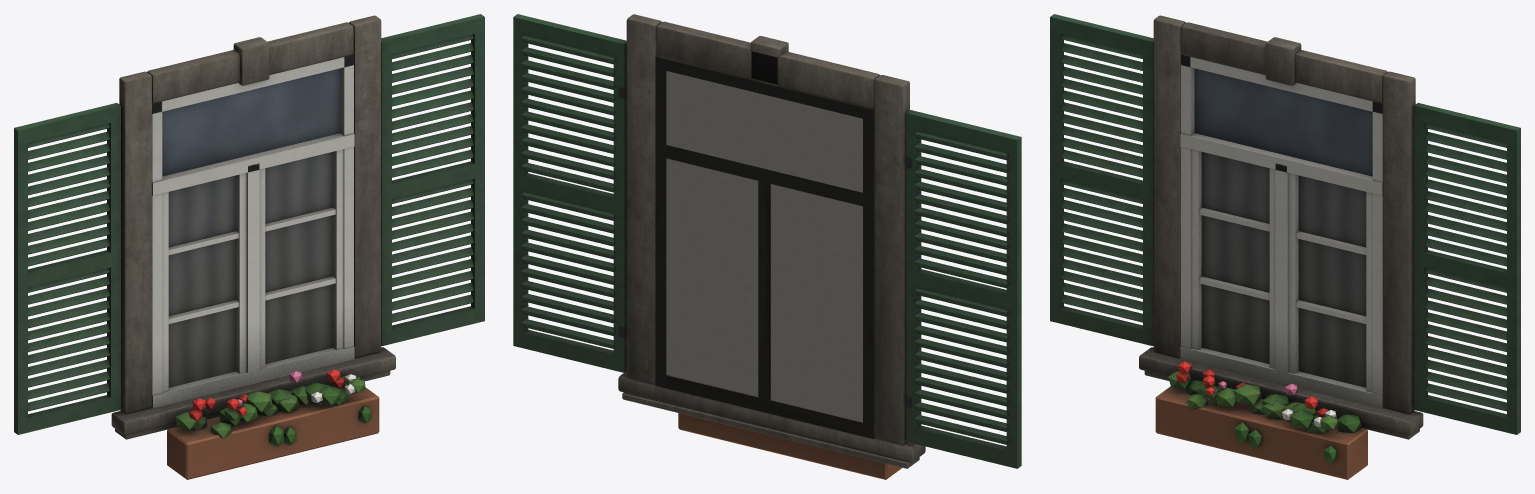
The model's file is win_town_green_flowers.glb.
3 renders of one model, left to right at view 1: azimuth 30°, elevation 25°; view 2: azimuth 150°, elevation 25°; view 3: azimuth 330°, elevation 25°, orthographic. The views are drawn at different scales.
Parts seen in each view (by area): view 1: win_town_green_flowers; view 2: win_town_green_flowers; view 3: win_town_green_flowers.
Part boxes in pixels (<box>): win_town_green_flowers: <box>14,14,484,479</box>; win_town_green_flowers: <box>513,14,1021,479</box>; win_town_green_flowers: <box>1050,14,1520,479</box>.
Size of the model in its own units: 2.36 by 1.89 by 0.3678.
Materials: 1 (1 with a texture image).
